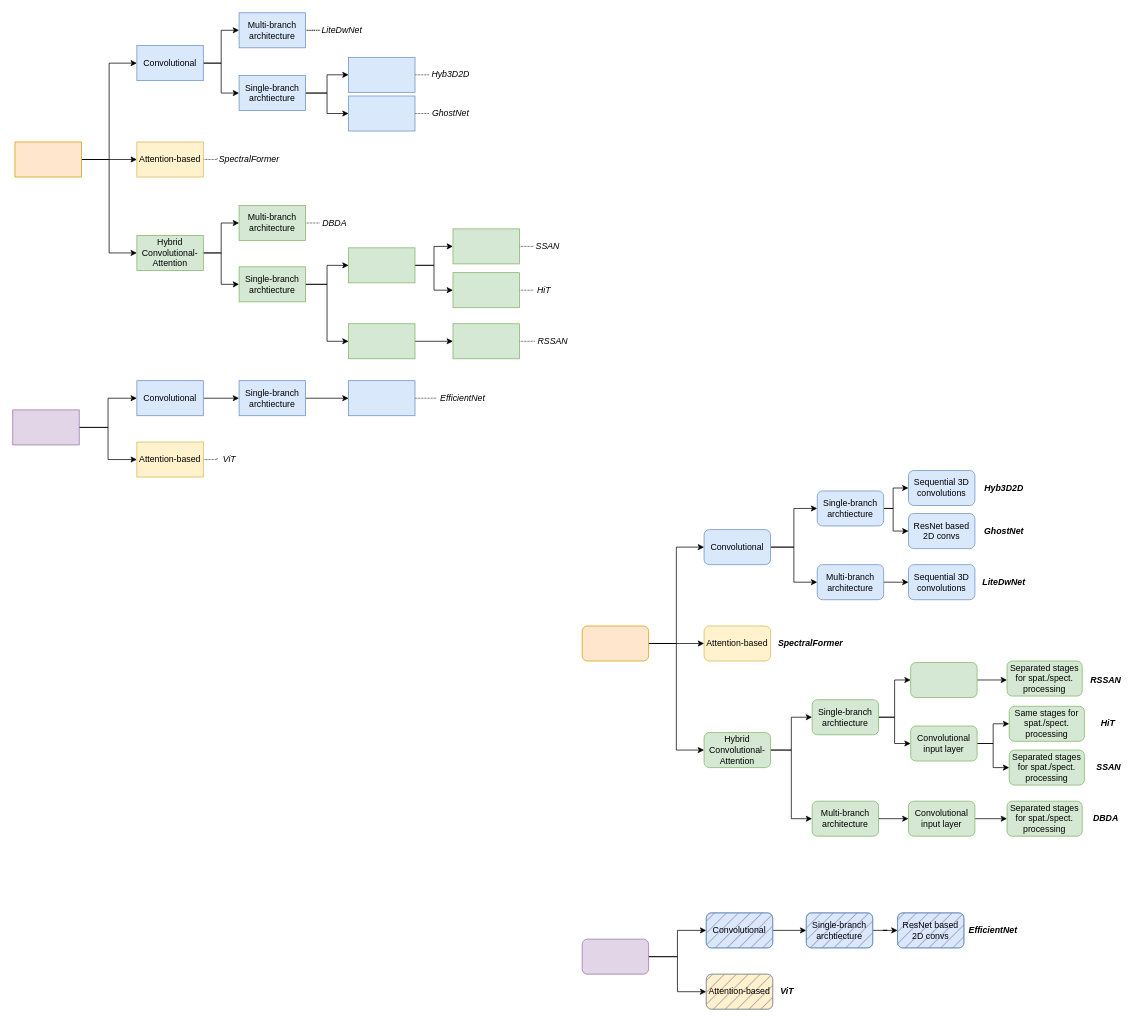
The diagram is 1145 pixels wide and 1022 high, and some of its shapes have lost their labels. Here are the shapes that lost their labels. From the top down, the centre of each, then its label:
the point at 381,74: 3D-2D convolutions
the point at 381,113: ResNet-based
the point at 47,159: Architectures for HSI
the point at 381,265: Convolutional header
the point at 485,246: Dissociated convolutions and attentions
the point at 485,290: Integrated convolutions and attentions
the point at 381,341: Attention header
the point at 485,341: Interleaved convolutions and attentions
the point at 381,398: 2D convolutions
the point at 45,427: Baseline architectures for RGB images
the point at 615,643: HSI models
the point at 943,680: Attention input layer
the point at 615,956: Baseline RGB models
